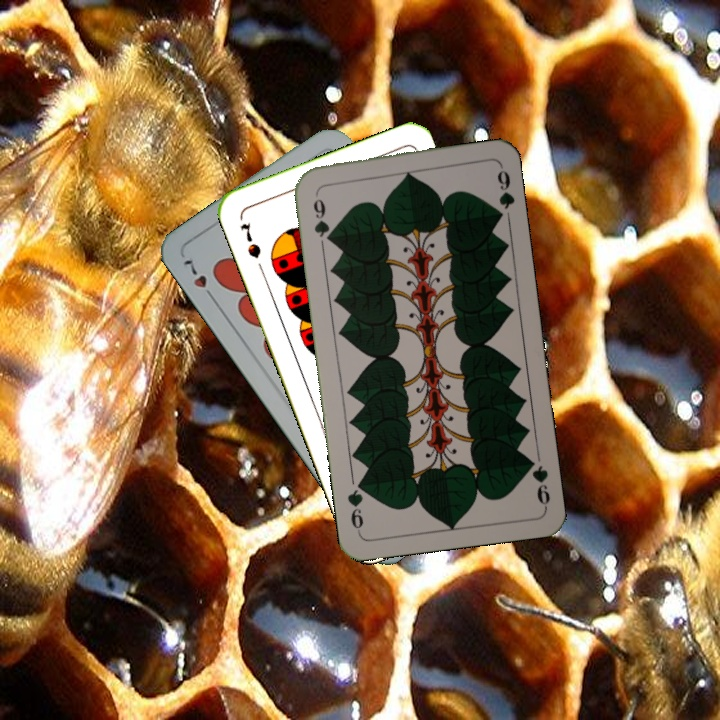G9: (522, 453, 553, 510), (309, 194, 335, 245)
H7: (179, 253, 218, 304)
S7: (236, 218, 264, 261)
